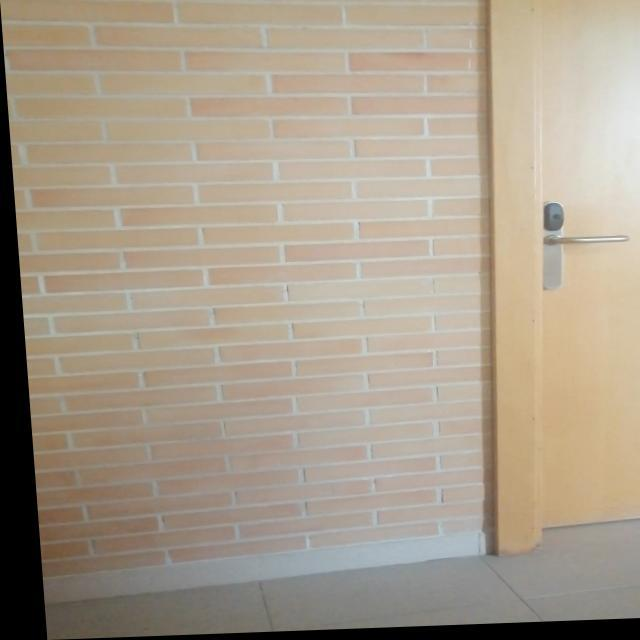door_handle: (538, 237, 630, 253)
